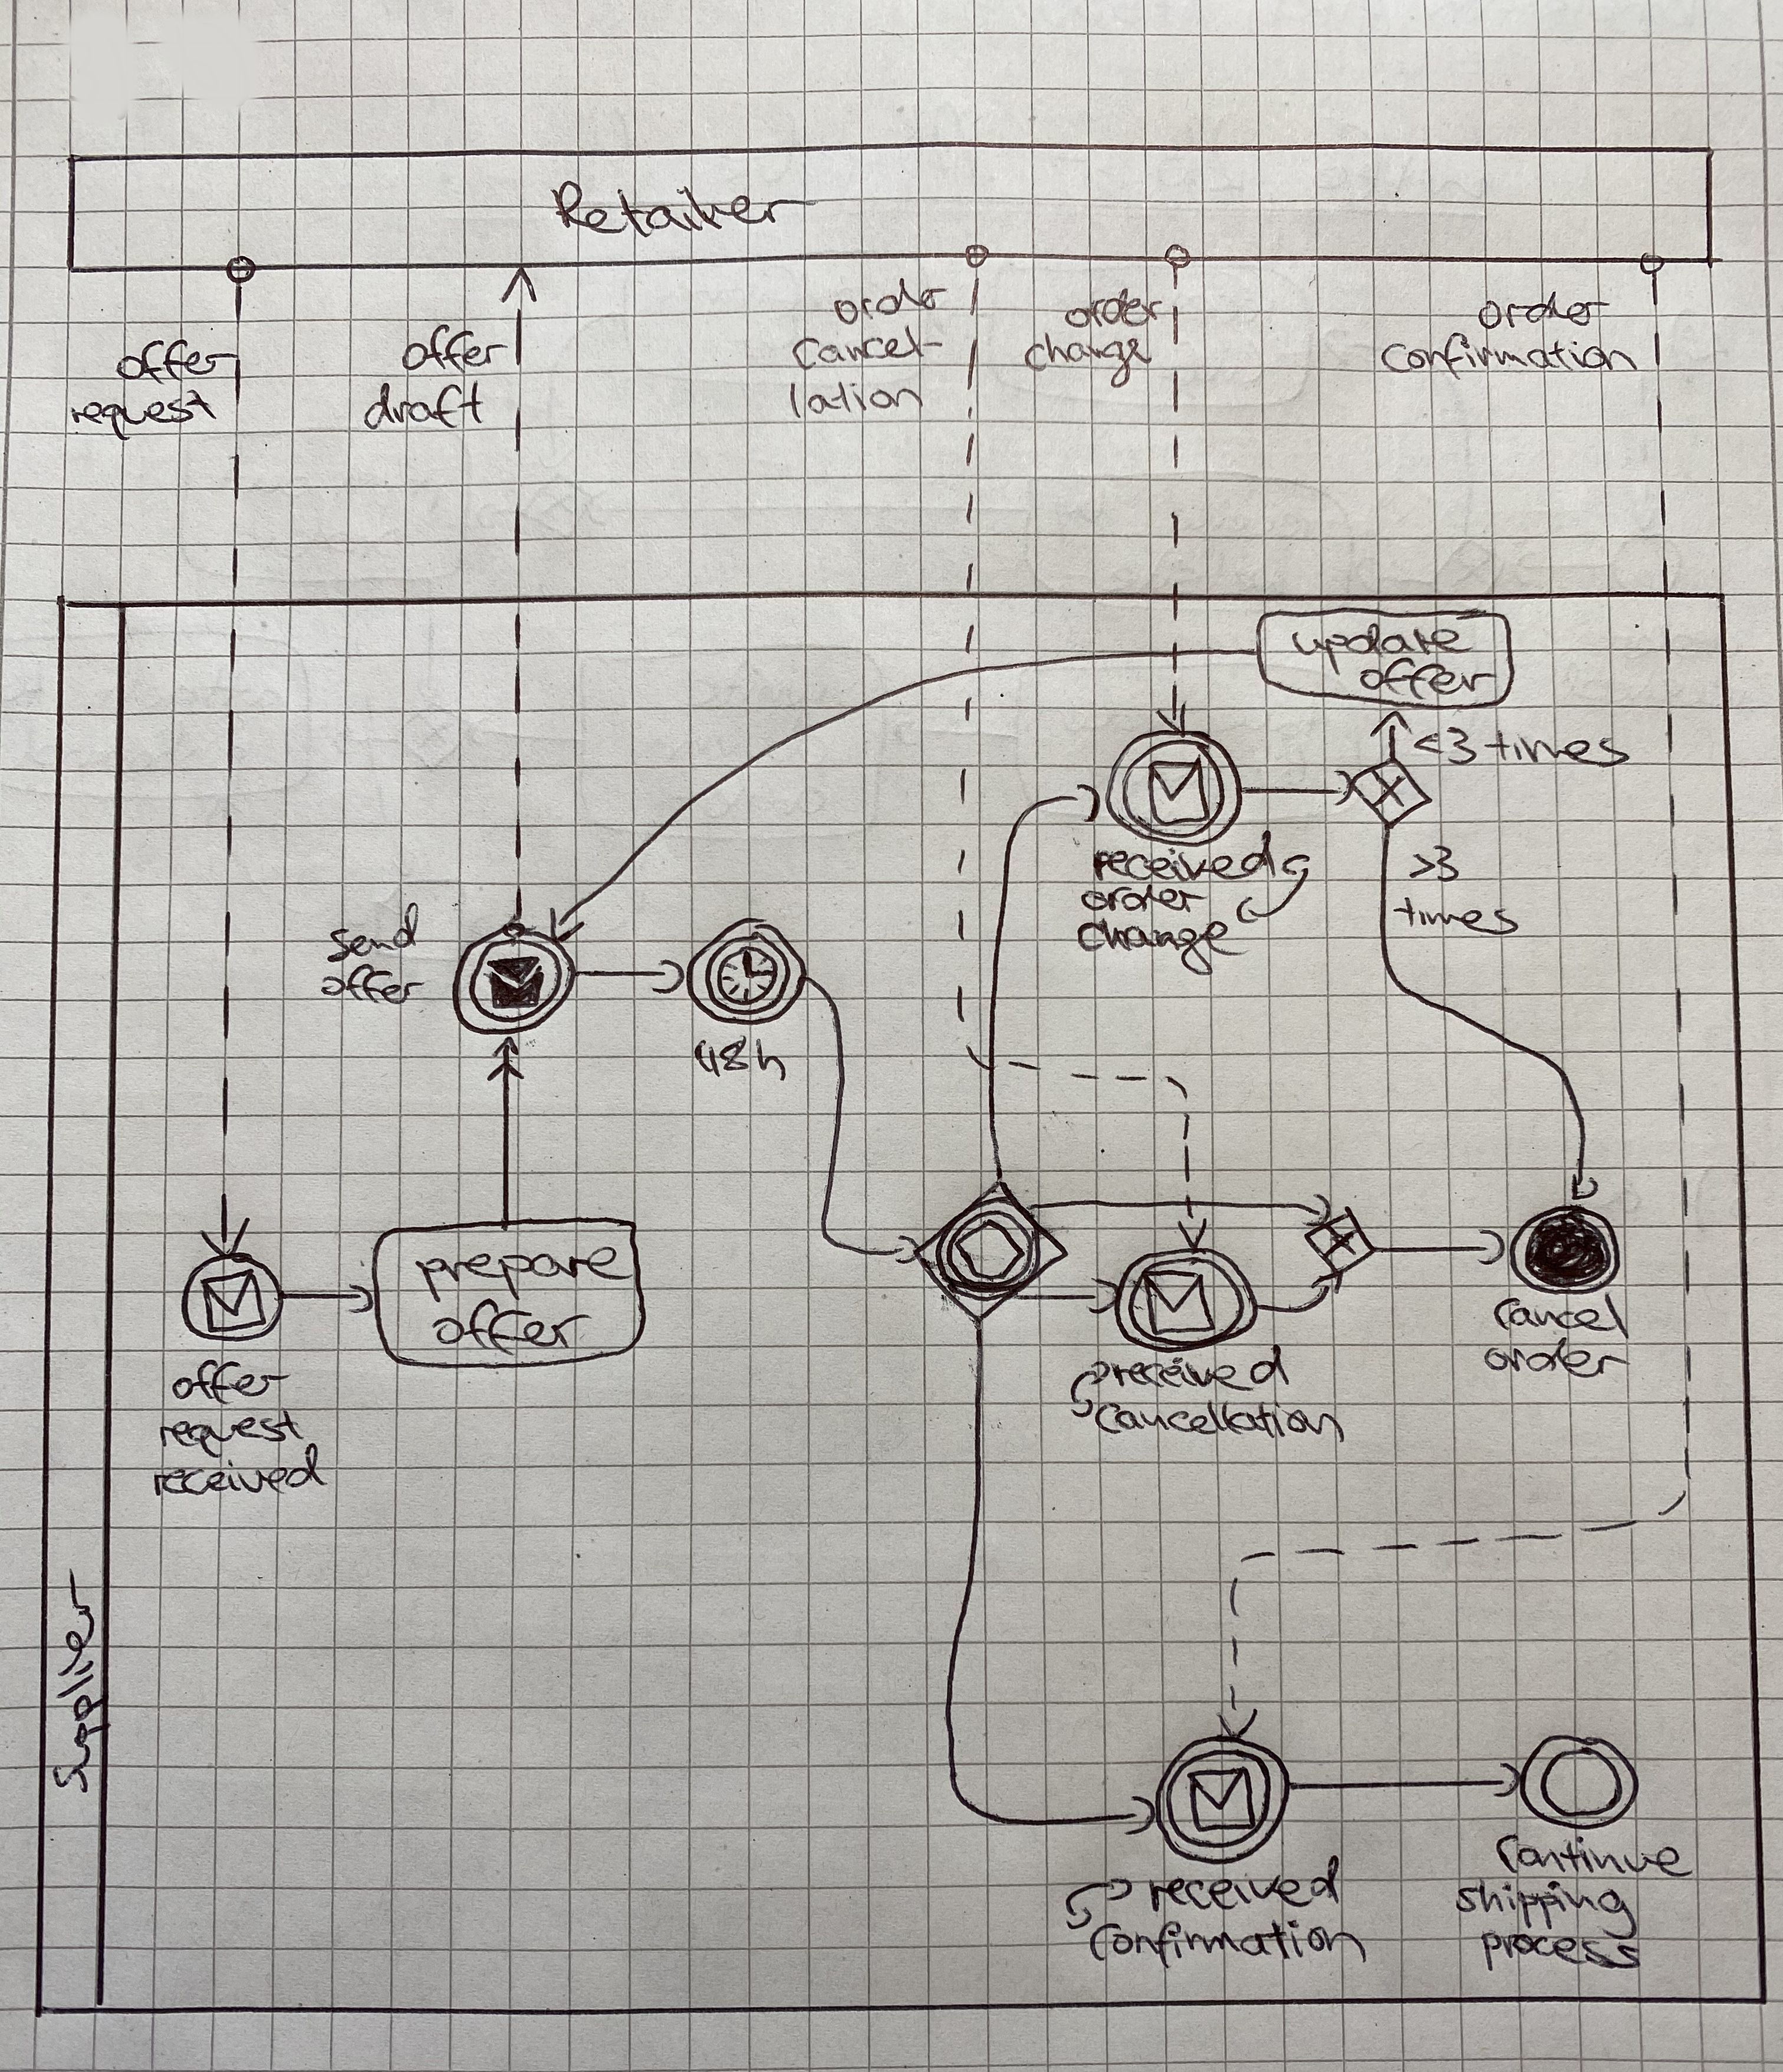48: (696, 1038, 751, 1082)
<3: (1404, 712, 1475, 768)
>3: (1413, 846, 1457, 883)
Cancel: (1492, 1293, 1633, 1339)
Change: (1076, 918, 1235, 958)
Confirmation: (1087, 1919, 1365, 1970), (1381, 337, 1651, 379)
Continue: (1496, 1829, 1690, 1882)
Retailer: (548, 174, 798, 245)
Send: (326, 911, 430, 964)
Shipping: (1457, 1880, 1631, 1935)
Supplier: (46, 1572, 100, 1795)
cancel-: (796, 328, 964, 372)
cancellation: (1096, 1399, 1343, 1445)
change: (1025, 328, 1159, 374)
draft: (365, 382, 488, 433)
h: (754, 1038, 793, 1082)
lation: (781, 379, 923, 425)
offer: (437, 1302, 587, 1355), (167, 1353, 291, 1406), (1358, 655, 1499, 701), (321, 960, 426, 1011), (400, 324, 507, 374), (118, 340, 231, 384)
order: (1478, 292, 1607, 337), (835, 273, 948, 322), (1489, 1343, 1630, 1381), (1064, 289, 1165, 328), (1082, 886, 1202, 918)
prepare: (418, 1239, 629, 1302)
process: (1478, 1926, 1640, 1972)
received: (1140, 1855, 1346, 1917), (1108, 1334, 1293, 1397), (150, 1445, 328, 1503), (1087, 846, 1276, 883)
request: (69, 388, 217, 435), (157, 1410, 300, 1457)
times: (1483, 719, 1628, 773), (1399, 899, 1524, 937)
update: (1288, 613, 1469, 666)
